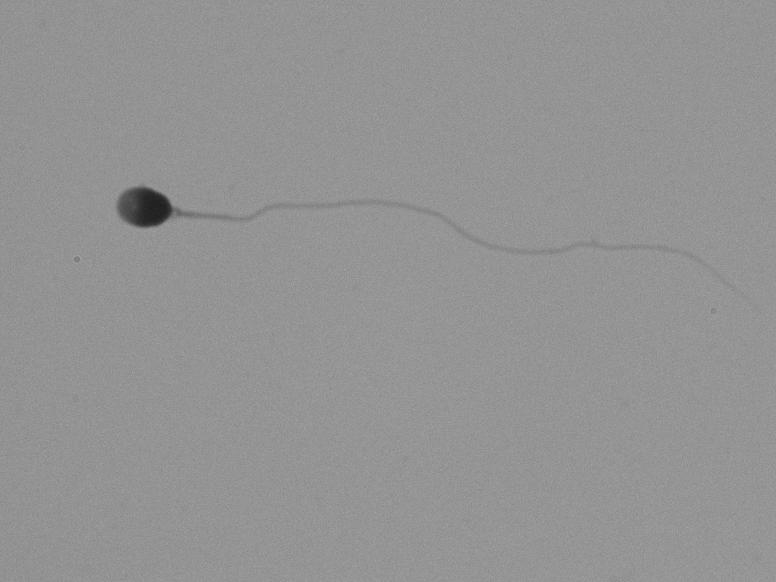Normal: (96, 137, 742, 356)
